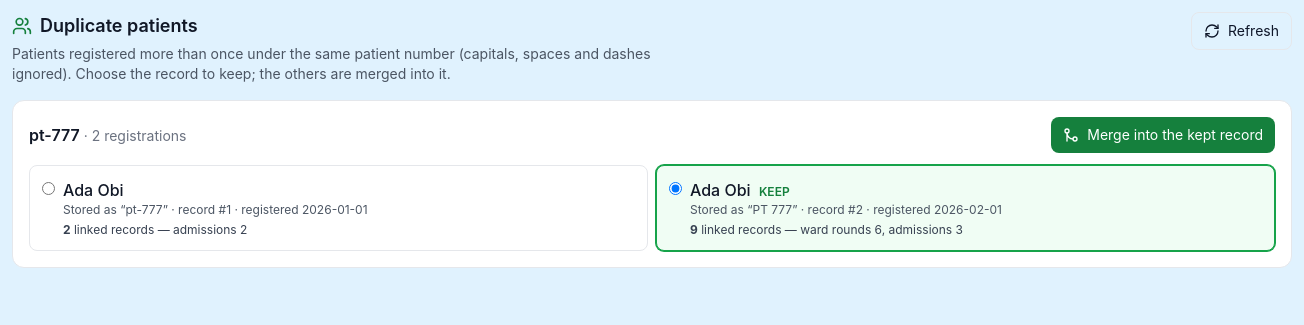
Scenario: DuplicatePatientsMerge › merges the other record into the kept one after confirmation
This screenshot has width=1304, height=325.
Click the button "Merge into the kept record" at [1163, 135], box [1051, 117, 1275, 153]
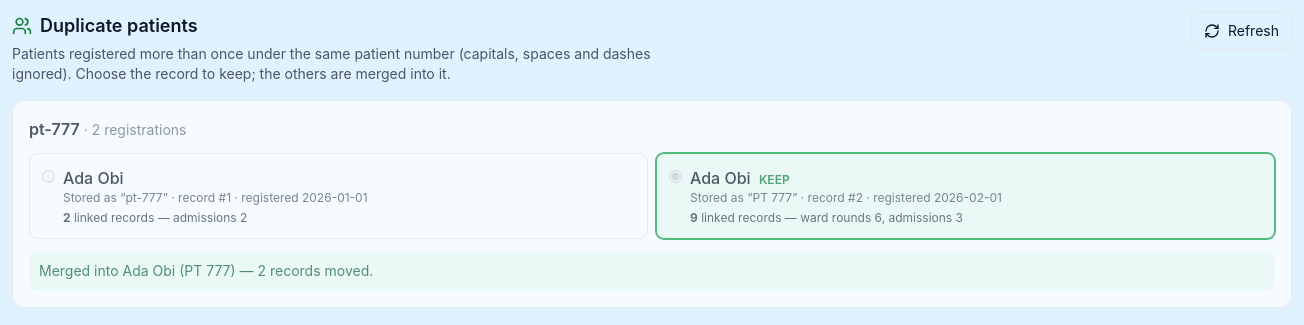
Result: the text "Merged into Ada Obi (PT 777) — 2 records moved." is shown at [29, 251, 1275, 291]
